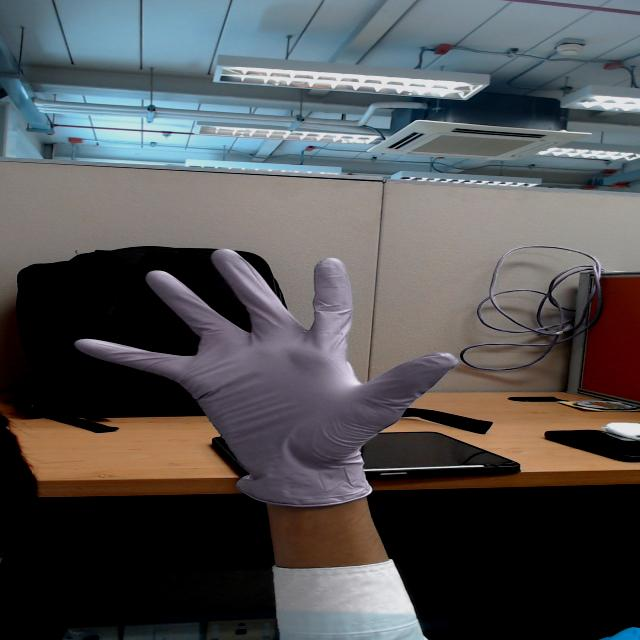glove: (67, 227, 491, 431)
